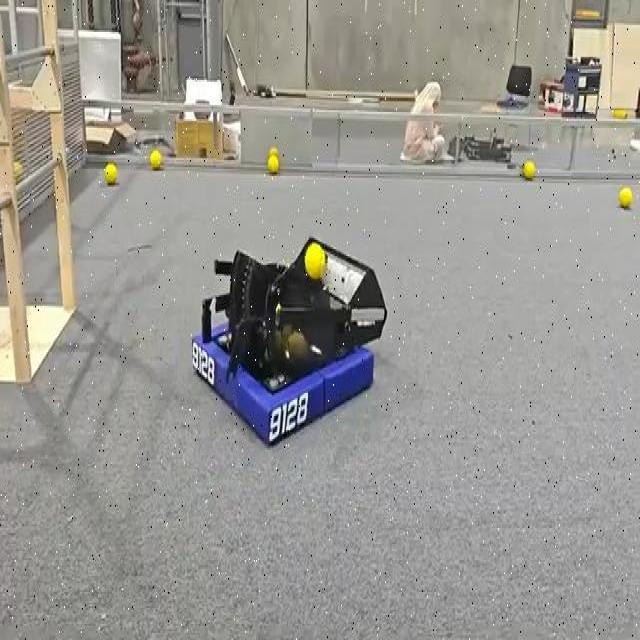Fuel: (304, 243, 326, 280), (304, 242, 325, 279), (103, 162, 117, 185), (619, 186, 633, 208), (619, 187, 632, 208), (104, 162, 116, 183), (149, 149, 161, 169), (522, 160, 535, 178), (523, 161, 536, 179), (150, 150, 161, 170), (268, 155, 279, 174), (267, 154, 278, 172), (268, 147, 278, 162), (14, 162, 22, 180), (268, 148, 277, 154)
